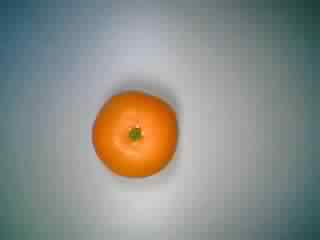orange: (85, 82, 180, 184)
